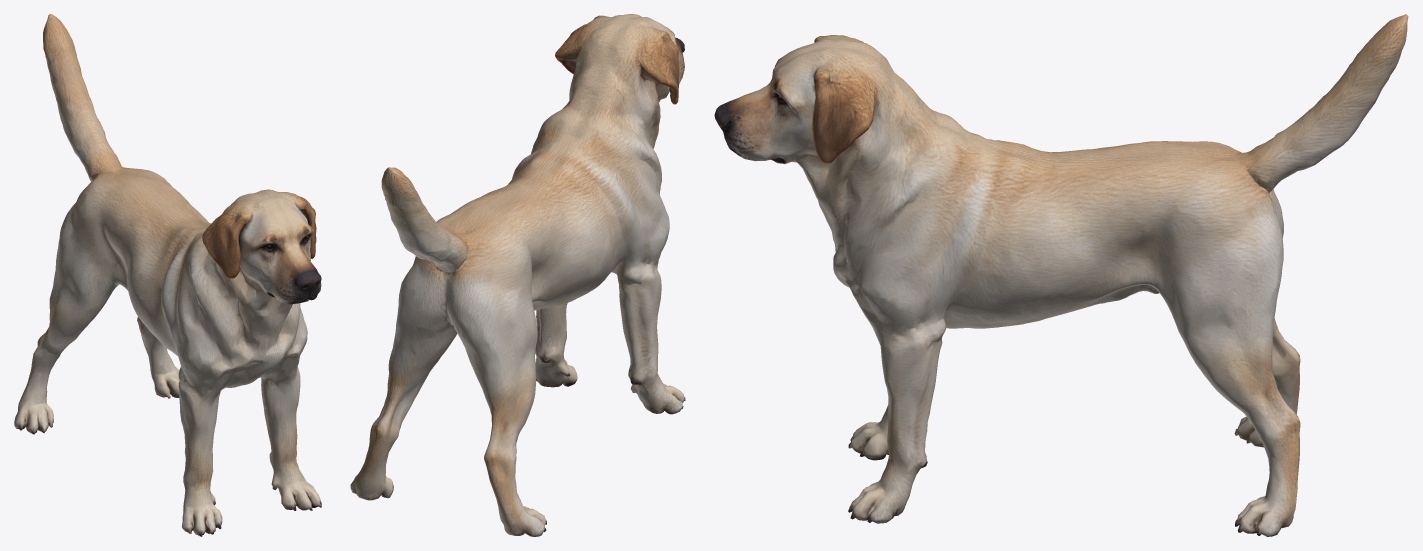
File: labrador.glb
3 views of the same model, side by side, from view 1: azimuth 30°, elevation 25°; view 2: azimuth 150°, elevation 25°; view 3: azimuth 270°, elevation 25° (orthographic). The views are drawn at different scales.
Parts seen in each view (by area): view 1: tripo_node_78ade0b5-b69d-4f51-baa4-75b14ef098a3; view 2: tripo_node_78ade0b5-b69d-4f51-baa4-75b14ef098a3; view 3: tripo_node_78ade0b5-b69d-4f51-baa4-75b14ef098a3.
Part boxes in pixels (<box>): tripo_node_78ade0b5-b69d-4f51-baa4-75b14ef098a3: <box>14,14,321,536</box>; tripo_node_78ade0b5-b69d-4f51-baa4-75b14ef098a3: <box>350,14,685,536</box>; tripo_node_78ade0b5-b69d-4f51-baa4-75b14ef098a3: <box>714,14,1408,536</box>.
Bounding box in the file's own units: 0.3847 × 0.746 × 1.
1 material, 1 textured.
